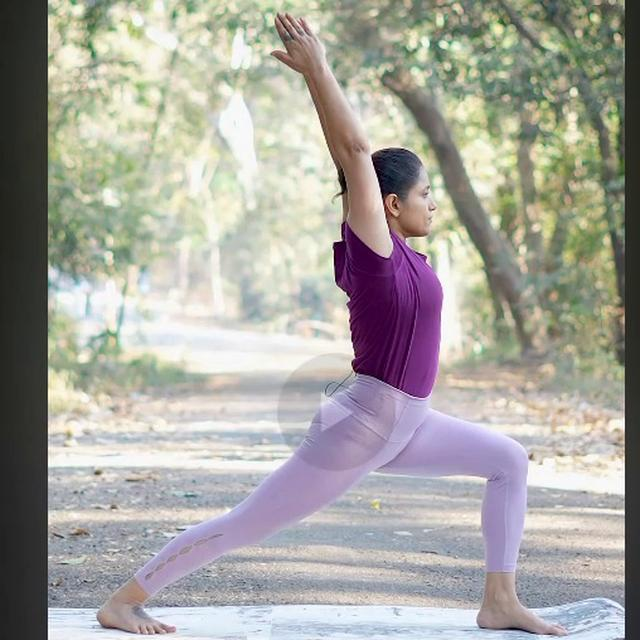Warrior_I: (85, 8, 570, 640)
